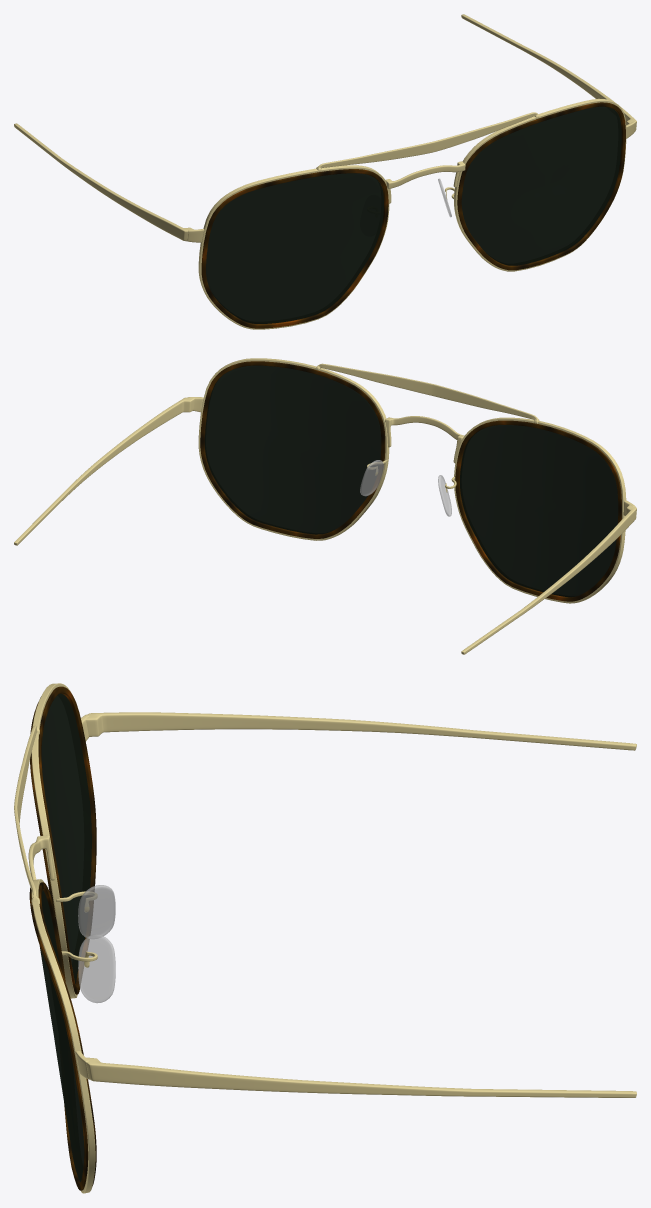
Rendered from marshal_APP_11072020.glb.
3 renders of one model, top to bottom at view 1: azimuth 30°, elevation 25°; view 2: azimuth 150°, elevation 25°; view 3: azimuth 270°, elevation 25°, orthographic. The views are drawn at different scales.
Visible parts, largest first — view 1: lentes, armacao, acetato; view 2: lentes, armacao, acetato, ponte; view 3: armacao, lentes, acetato, ponte.
Boxes of the visible parts, left/top/right/bottom form: lentes: left=206, top=106, right=621, bottom=323; armacao: left=14, top=14, right=636, bottom=329; acetato: left=201, top=102, right=625, bottom=328; lentes: left=205, top=365, right=618, bottom=597; armacao: left=14, top=358, right=636, bottom=654; acetato: left=200, top=361, right=621, bottom=601; ponte: left=360, top=460, right=451, bottom=516; armacao: left=14, top=683, right=636, bottom=1193; lentes: left=39, top=693, right=91, bottom=1181; acetato: left=29, top=686, right=96, bottom=1190; ponte: left=78, top=885, right=115, bottom=1003.
Size of the model in its own units: 0.159 by 0.0542 by 0.1144.
Materials: 4 (1 with a texture image).
